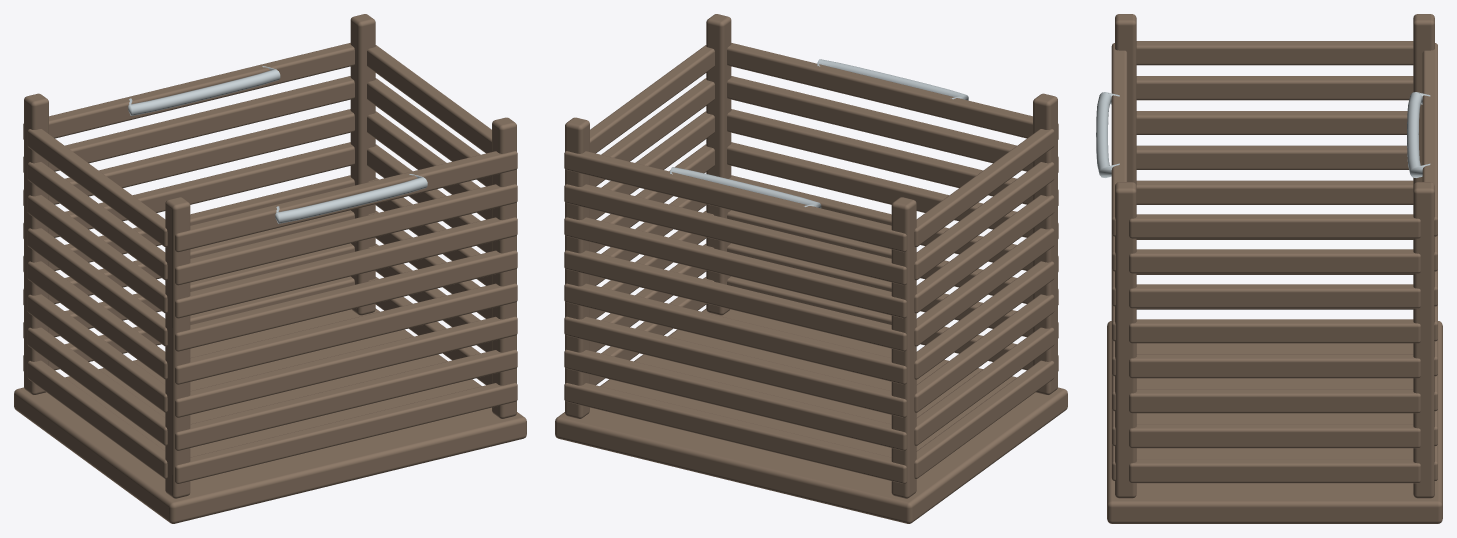
Rendered from abandoned-weather-station-and-storm-shelter-weather-ba-cb89e91c__31025.glb.
3 renders of one model, left to right at view 1: azimuth 30°, elevation 25°; view 2: azimuth 150°, elevation 25°; view 3: azimuth 270°, elevation 25°, orthographic. The views are drawn at different scales.
Parts seen in each view (by area): view 1: weather-balloon-basket; view 2: weather-balloon-basket; view 3: weather-balloon-basket.
Part boxes in pixels (x1,y1,x2,y2): weather-balloon-basket: (14,14,526,523); weather-balloon-basket: (555,14,1067,523); weather-balloon-basket: (1096,14,1442,523).
Bounding box in the file's own units: 0.7 × 0.59 × 0.5577.
